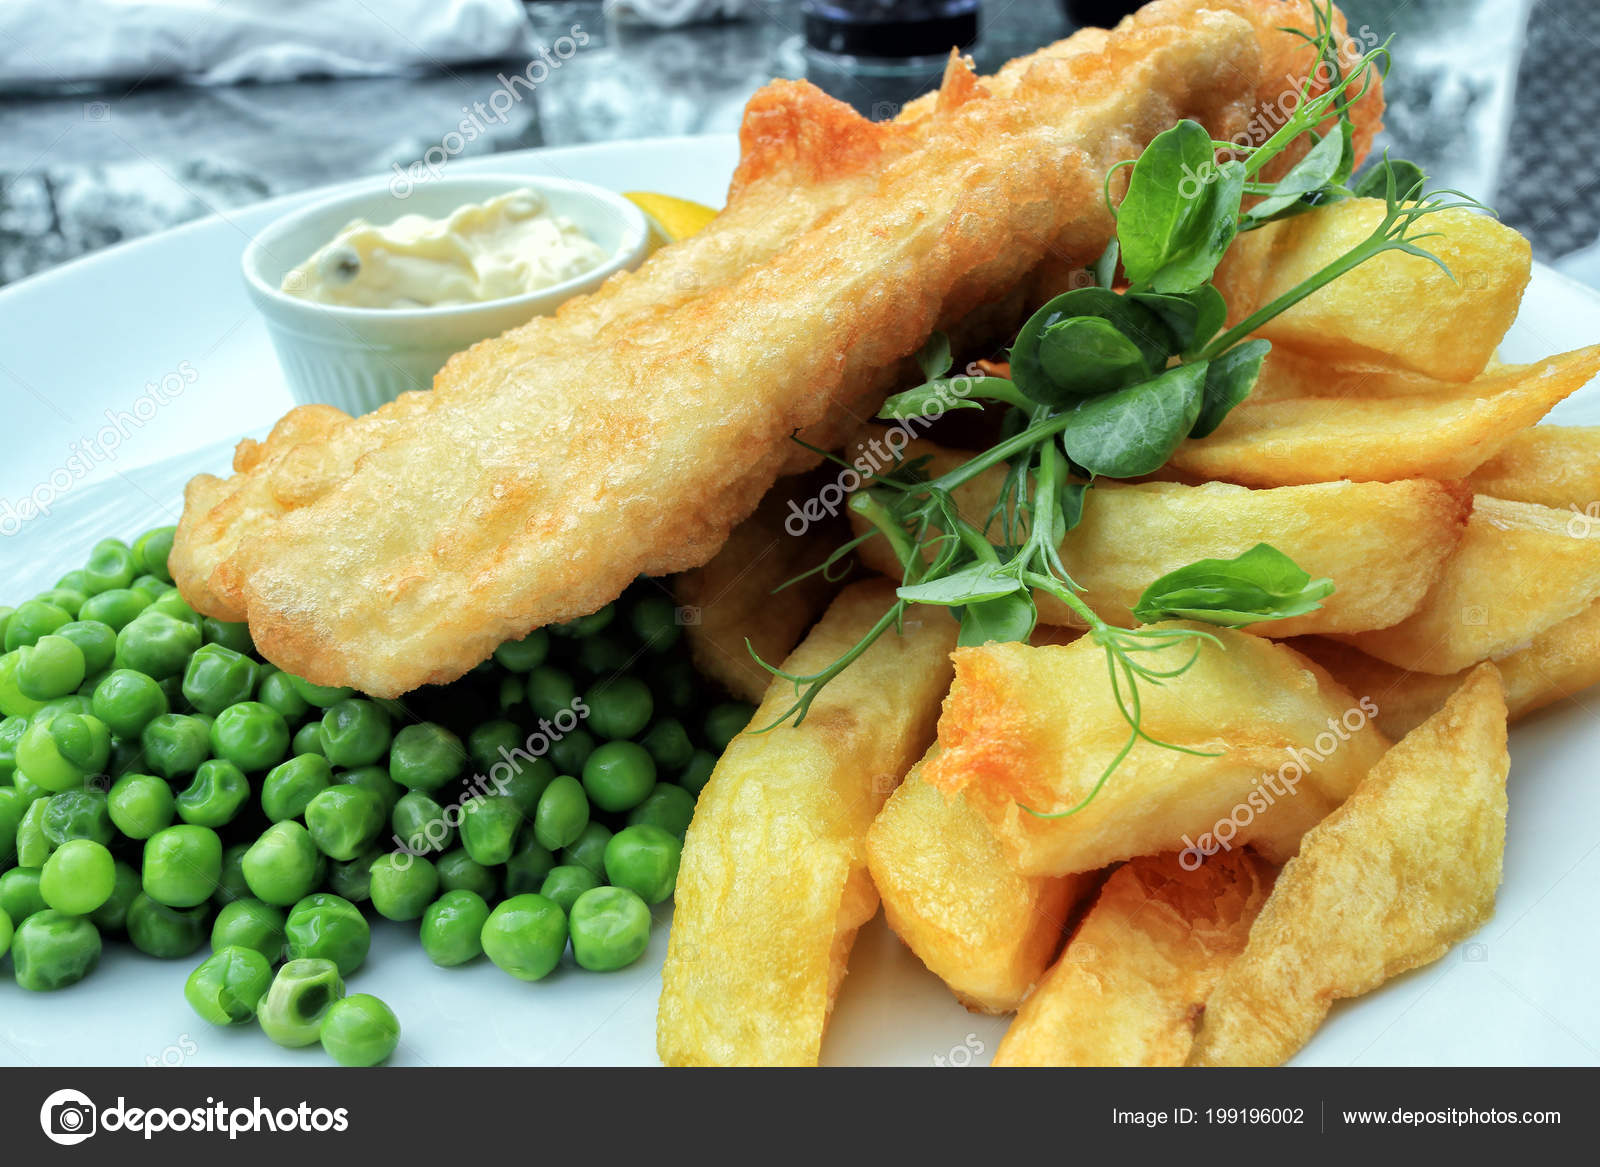boiled peas: (52, 628, 312, 1007)
